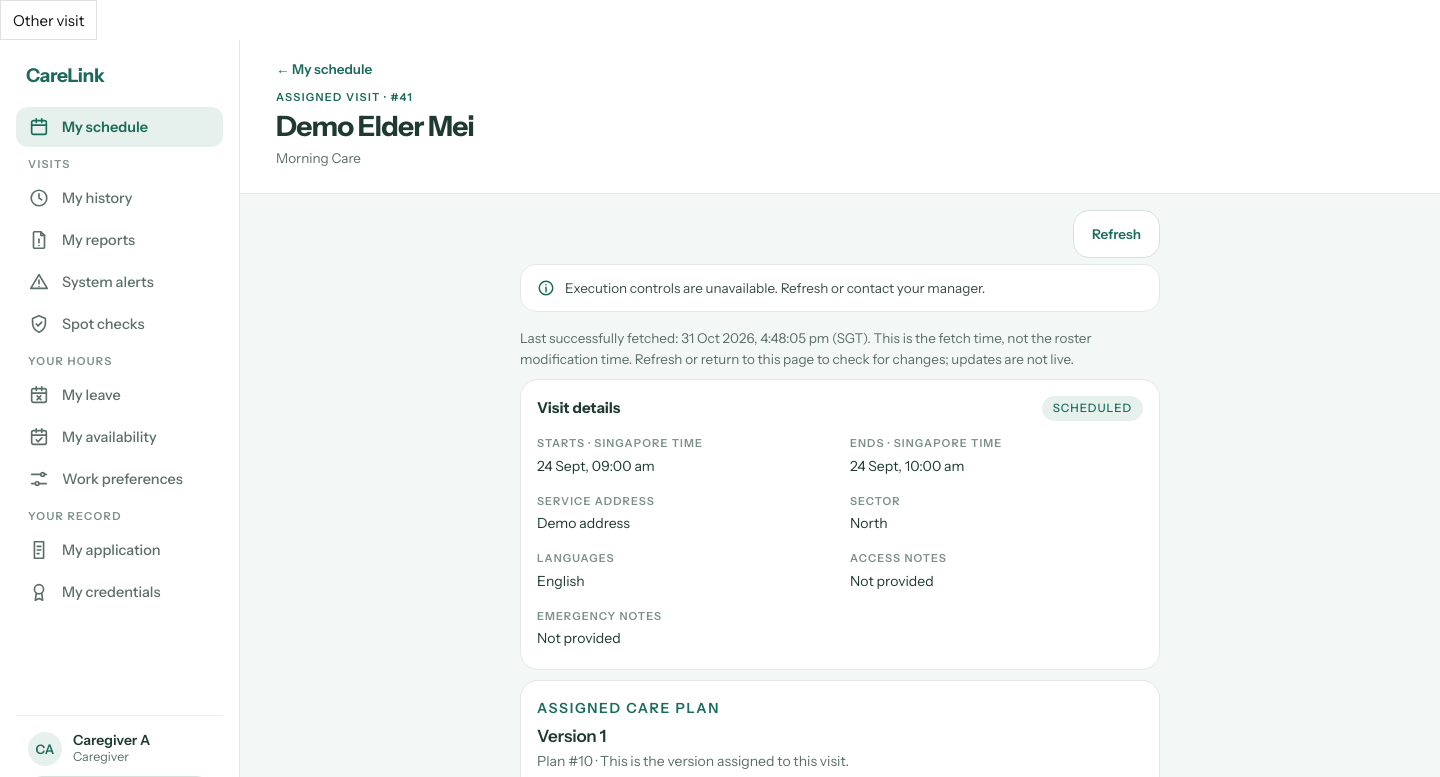
caregiver read workflow › clears the previous work pack immediately during retry and failure
Expected: the text "Demo address" is shown, [537,514,630,532]
Step 1. Click the button "Refresh" → (1116, 234), box [1073,210,1160,258]
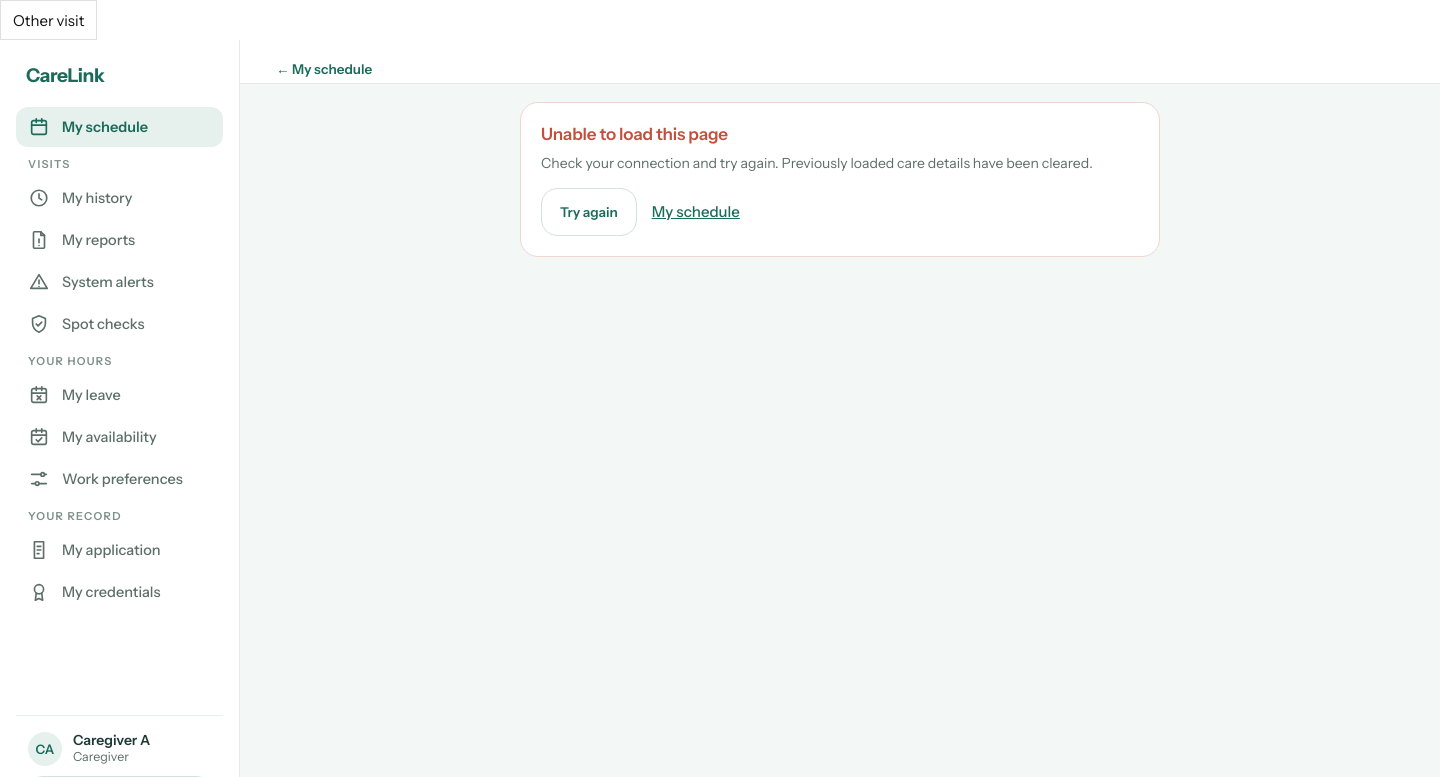
Result: the text "Demo address" is gone
Result: the message shows "Unable to load" at [541,124,728,144]
Step 2. Click the button "Try again" → (589, 212), box [541,188,637,236]
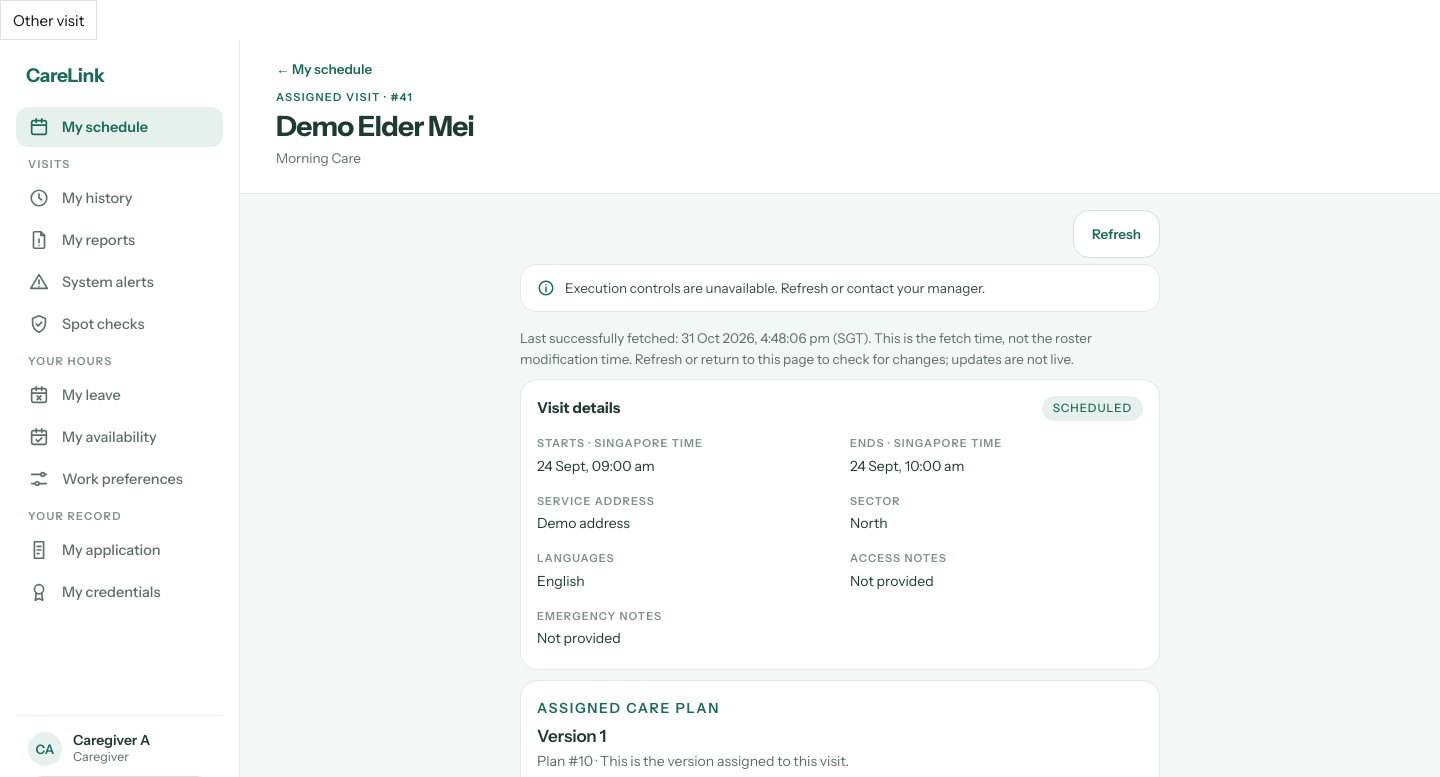
Result: the text "Demo address" is shown at [537,514,630,532]
